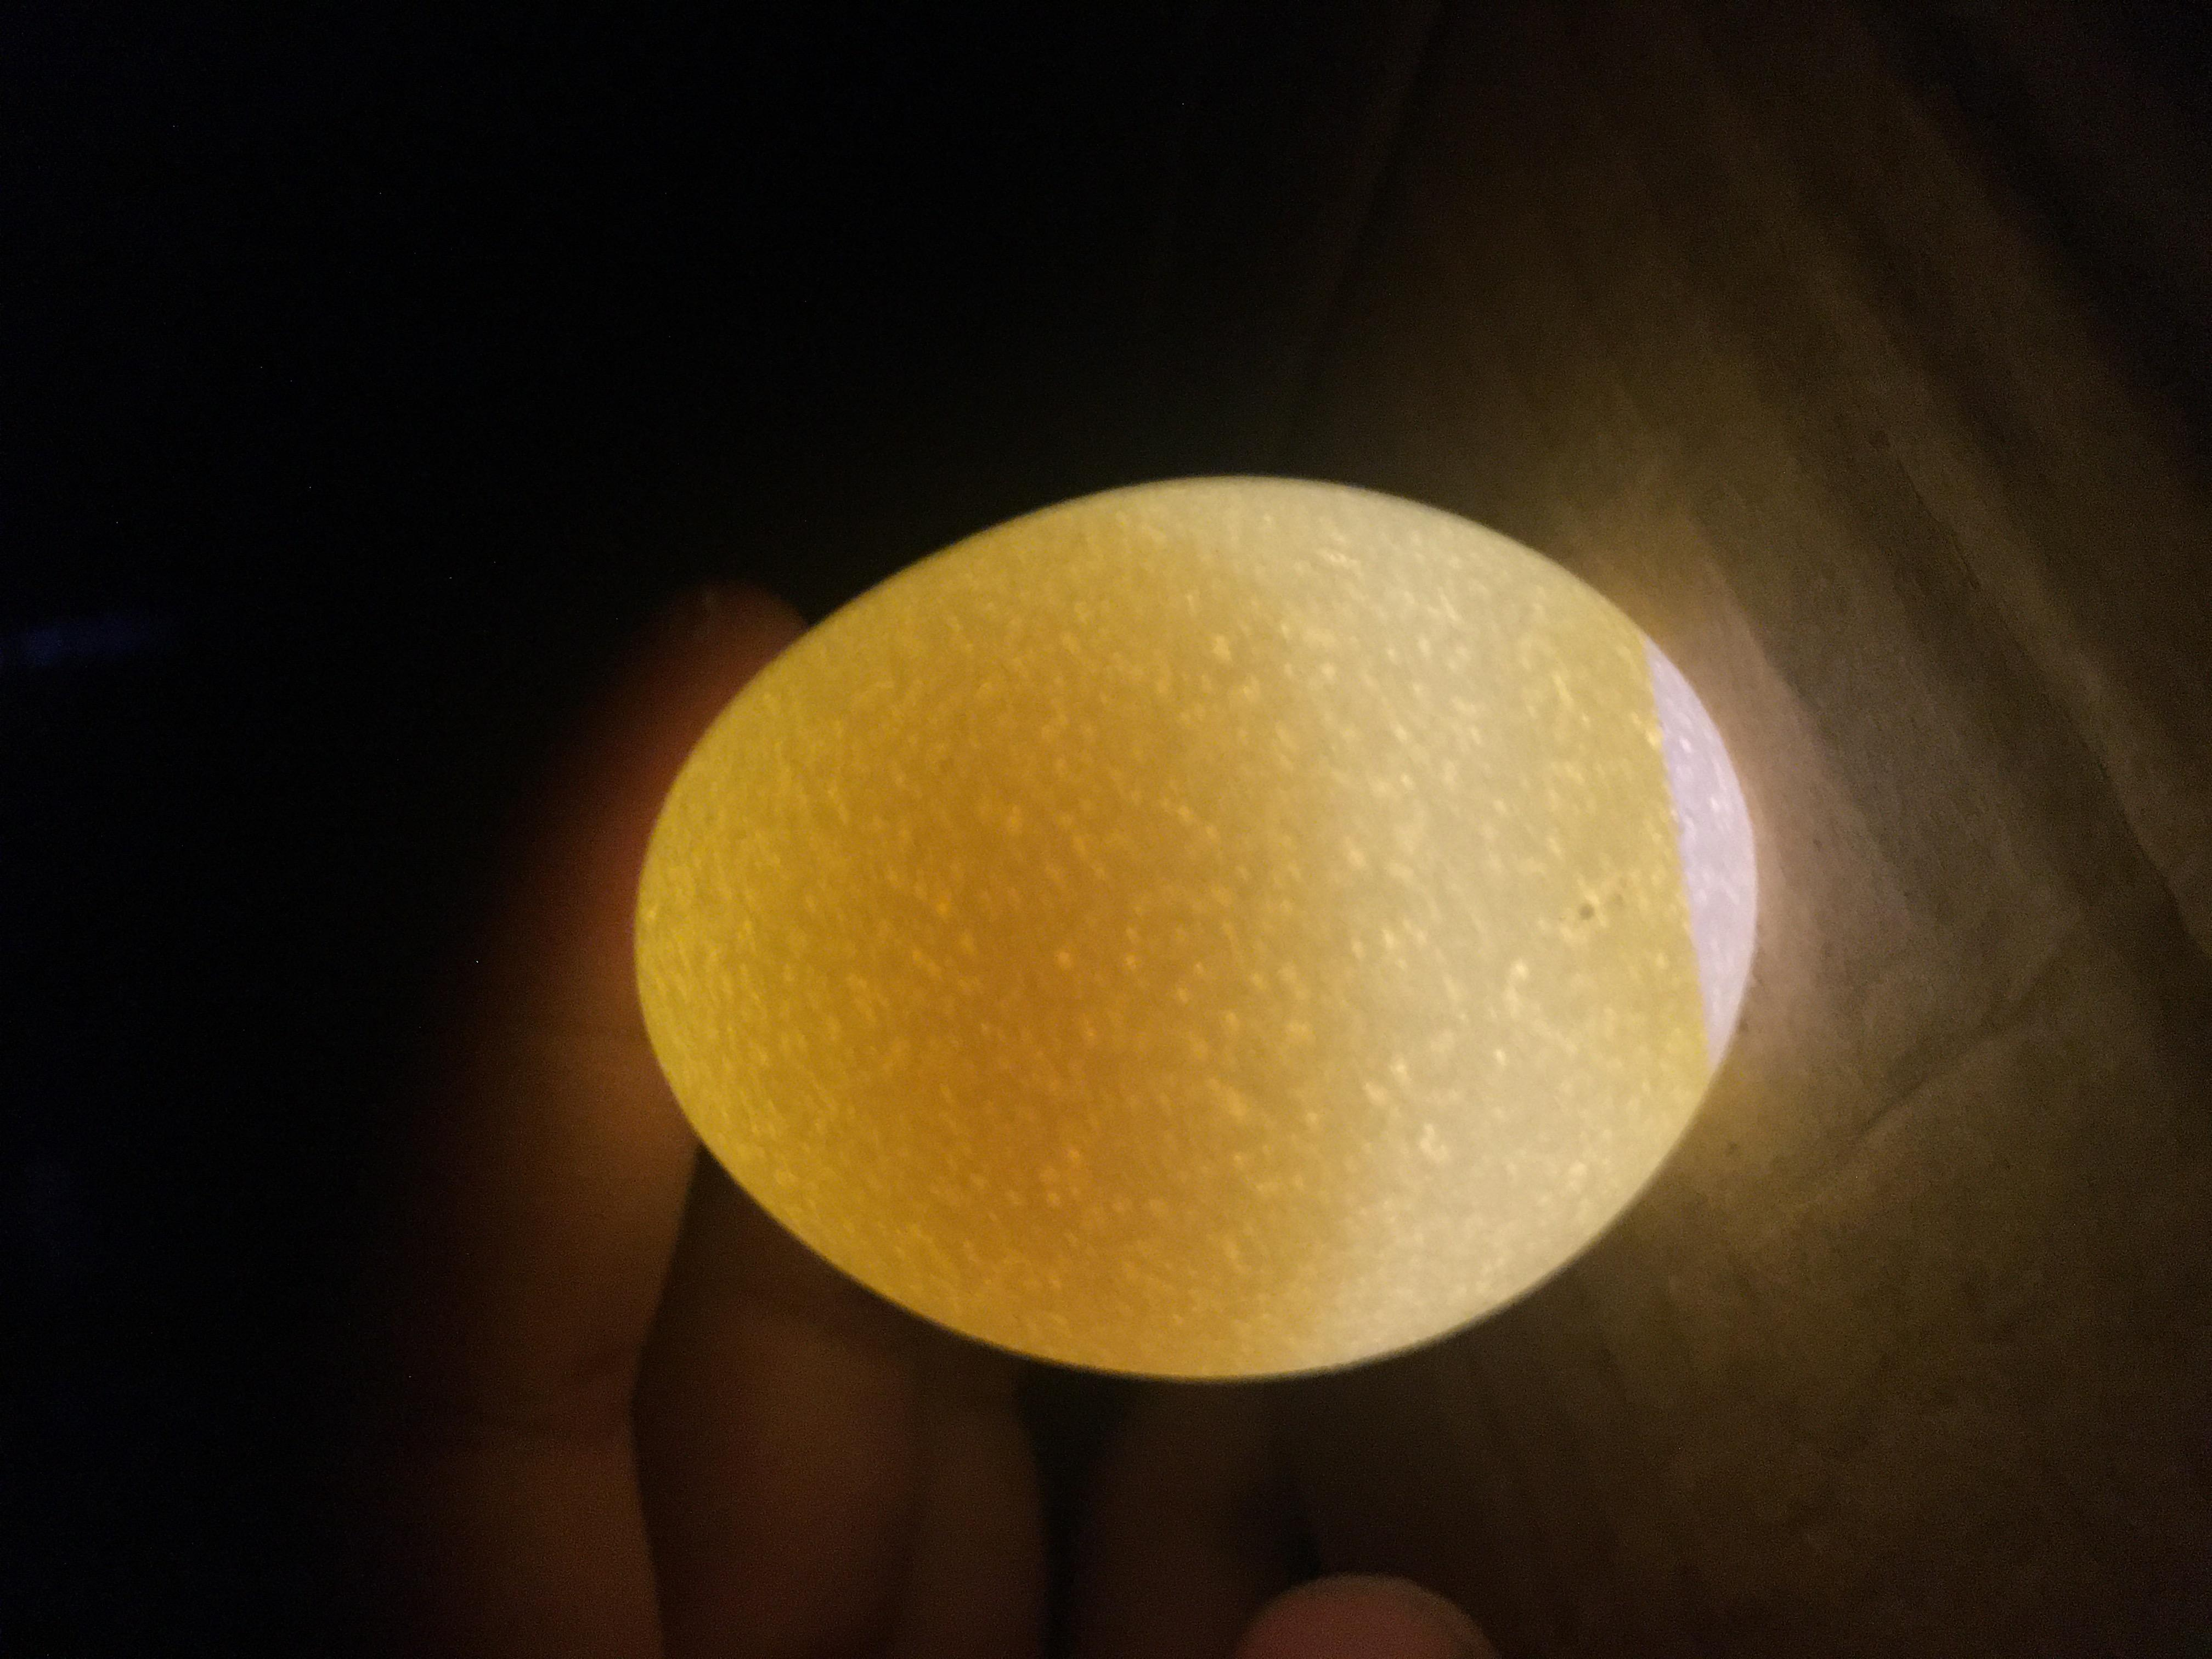A - Good: (355, 458, 1583, 1323)
